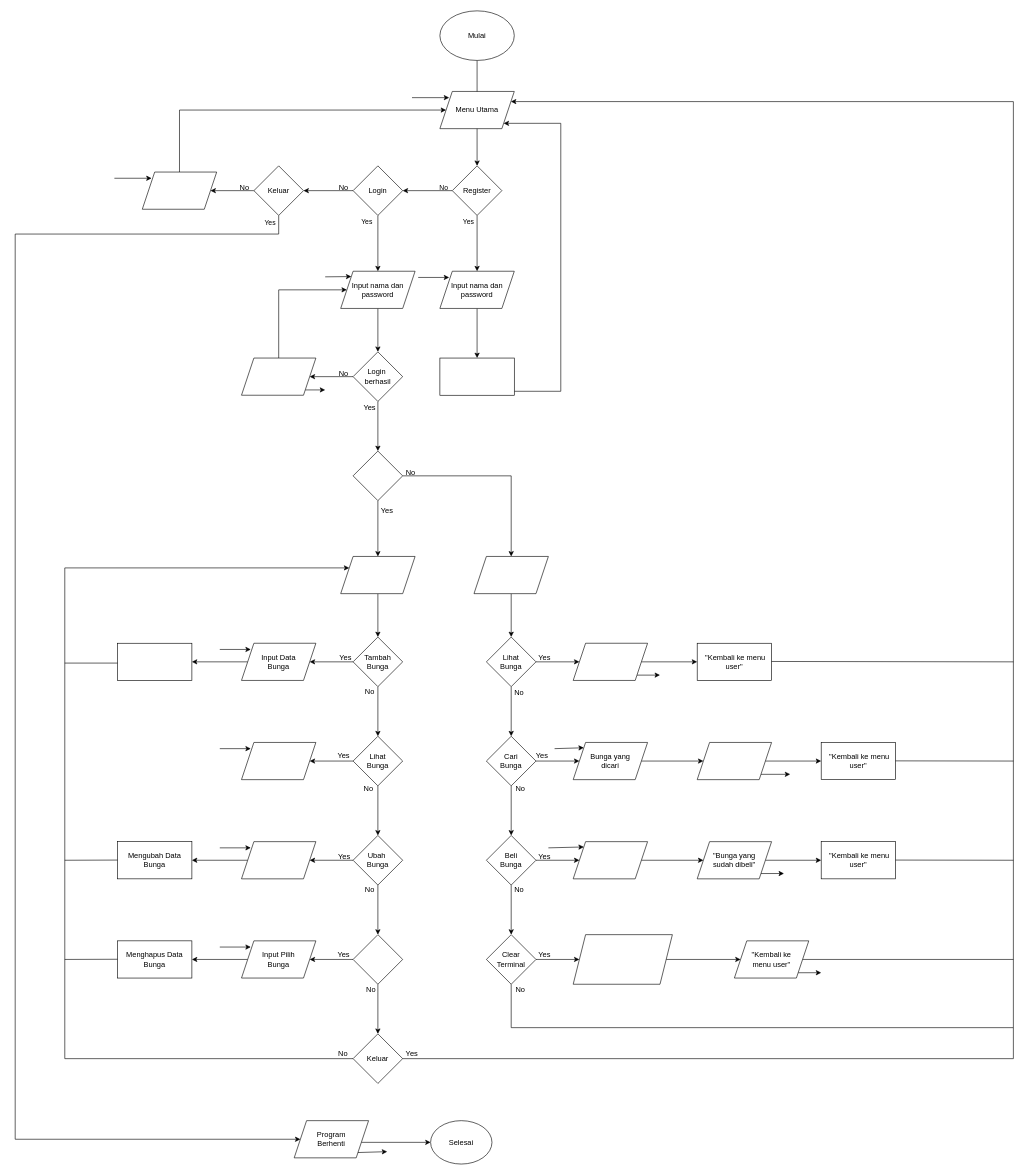
The diagram is 1029 pixels wide and 1175 high, and some of its shapes have lost their labels. Each missing label, with the centre of its shape:
"Bunga yang dicari": (x=734, y=761)
"List Bunga": (x=610, y=661)
"Terimakasih sudah berbelanja di toko bunga Rafalia": (x=622, y=959)
Admin: (x=377, y=475)
Bunga yang dibeli: (x=610, y=860)
Data Disimpan: (x=476, y=376)
Hapus Bunga: (x=377, y=959)
Input Mengubah Data Bunga Terpilih: (x=278, y=860)
Input Tabel Data Bunga, nama, harga,stok,warna: (x=278, y=761)
Input tidak valid: (x=179, y=190)
Menu Admin: (x=377, y=575)
Menu User: (x=510, y=575)
nama atau password salah: (x=278, y=376)
Tambah Data Bunga: (x=154, y=661)
